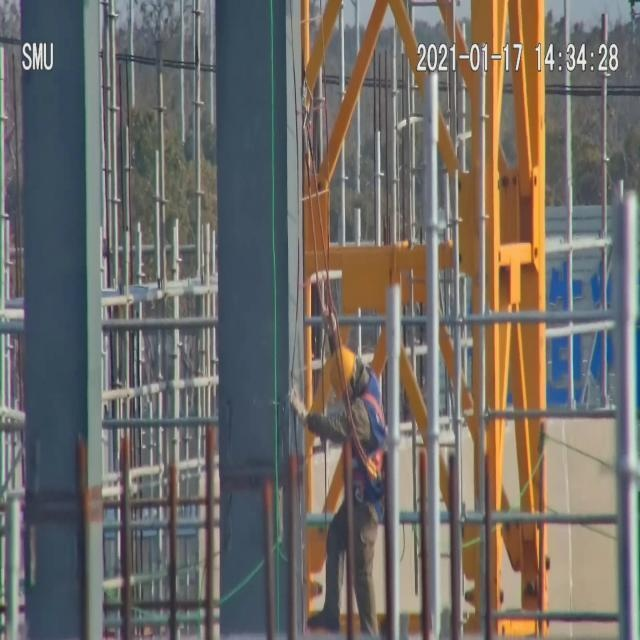Arnes_seguridad: (349, 364, 391, 496)
